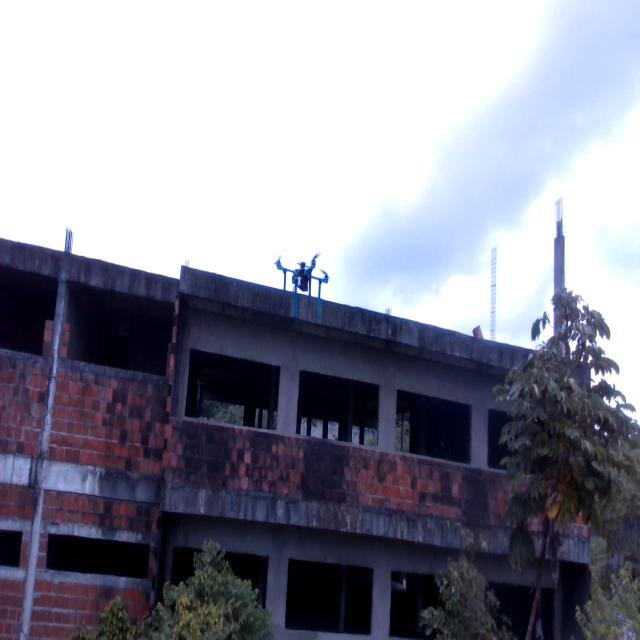-uav-: (266, 228, 332, 329)
